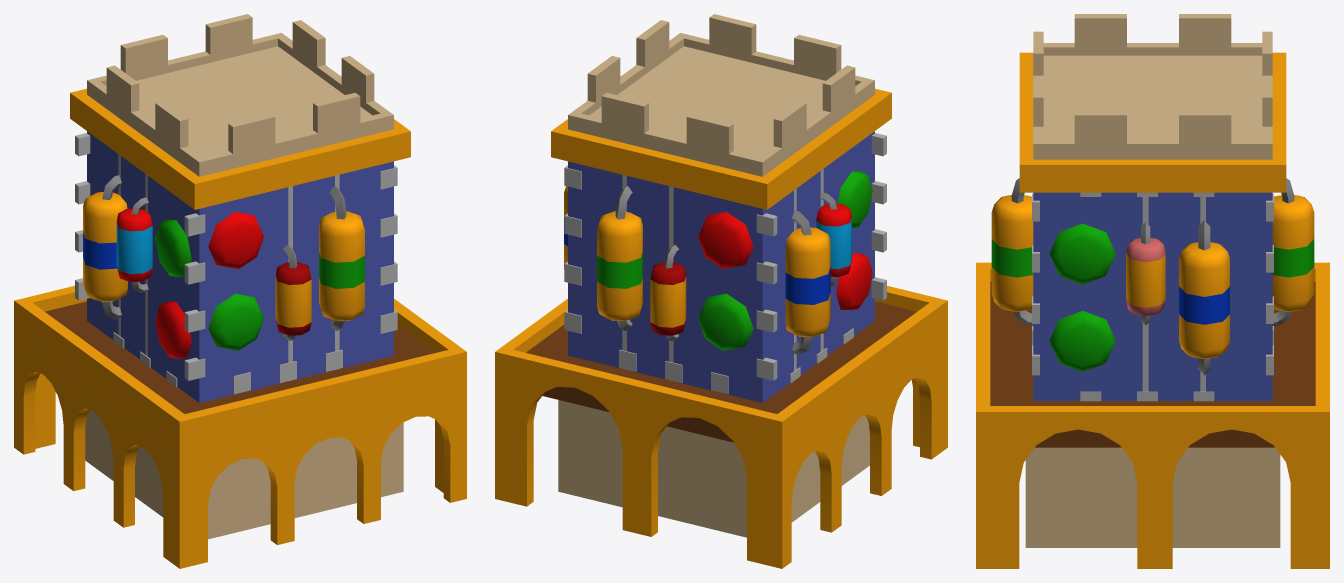
Rendered from Transistor_01.fbx.
3 views of the same model, side by side, from view 1: azimuth 30°, elevation 25°; view 2: azimuth 150°, elevation 25°; view 3: azimuth 270°, elevation 25° (orthographic). The views are drawn at different scales.
Parts seen in each view (by area): view 1: Transistor_01; view 2: Transistor_01; view 3: Transistor_01.
Part boxes in pixels (x1,y1,x2,y2): Transistor_01: (14,14,466,568); Transistor_01: (495,14,947,568); Transistor_01: (976,14,1329,568).
Size of the model in its own units: 12.69 by 17 by 12.69.
